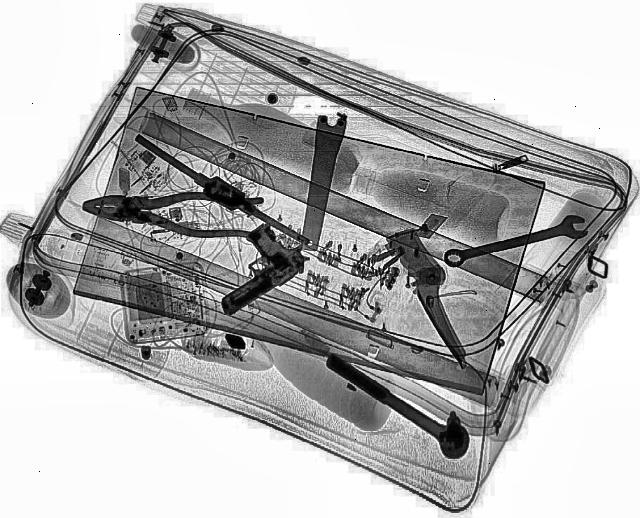Gun: (180, 220, 322, 320)
Pliers: (79, 184, 267, 244)
Wrench: (440, 212, 596, 274)
